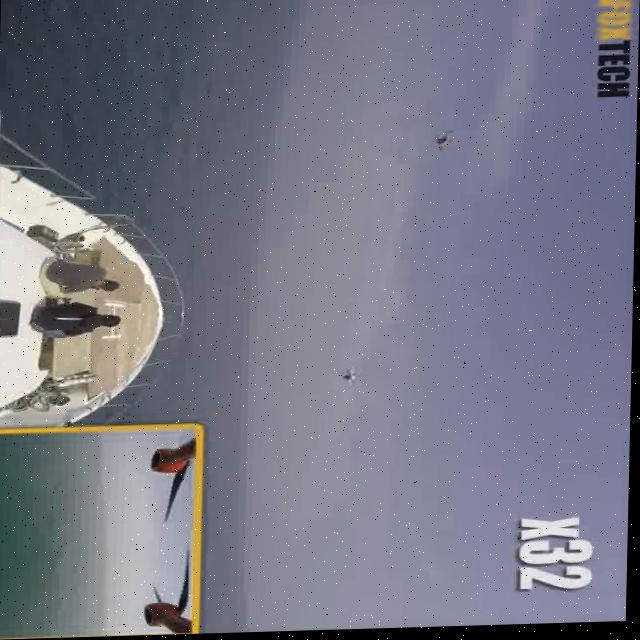drone: (426, 127, 469, 154), (335, 370, 375, 392)
